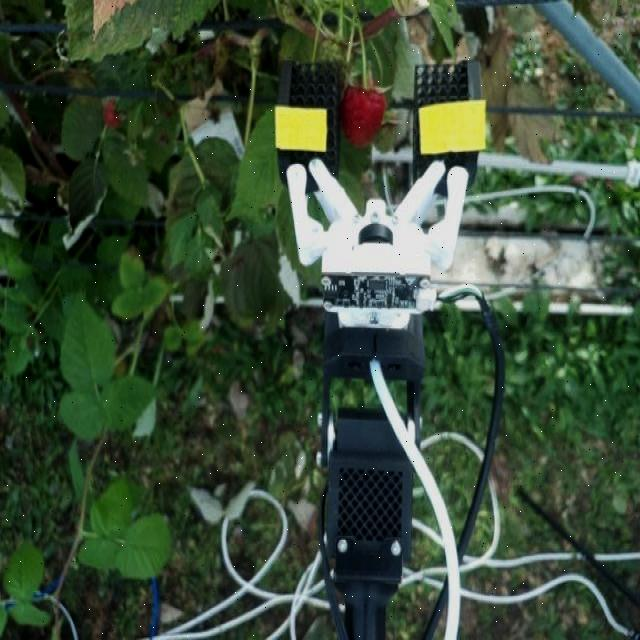Riped berries: (338, 79, 387, 148), (102, 97, 128, 131)
